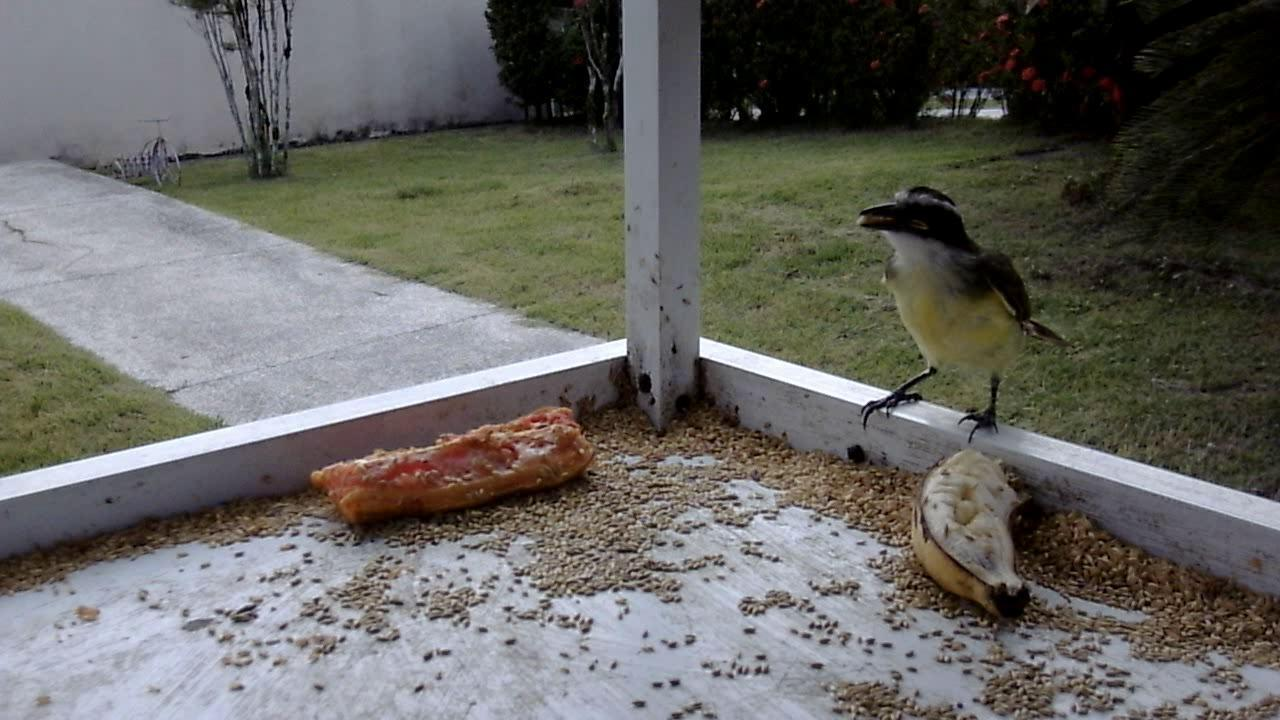bem_te_vi: (849, 184, 1070, 450)
